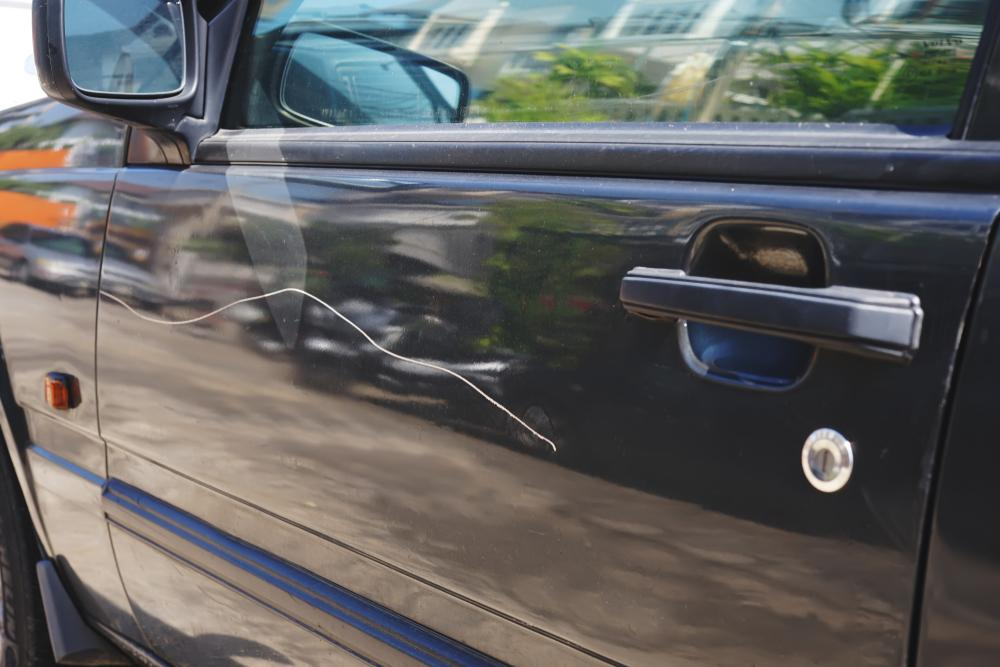scratch: (93, 284, 566, 457)
